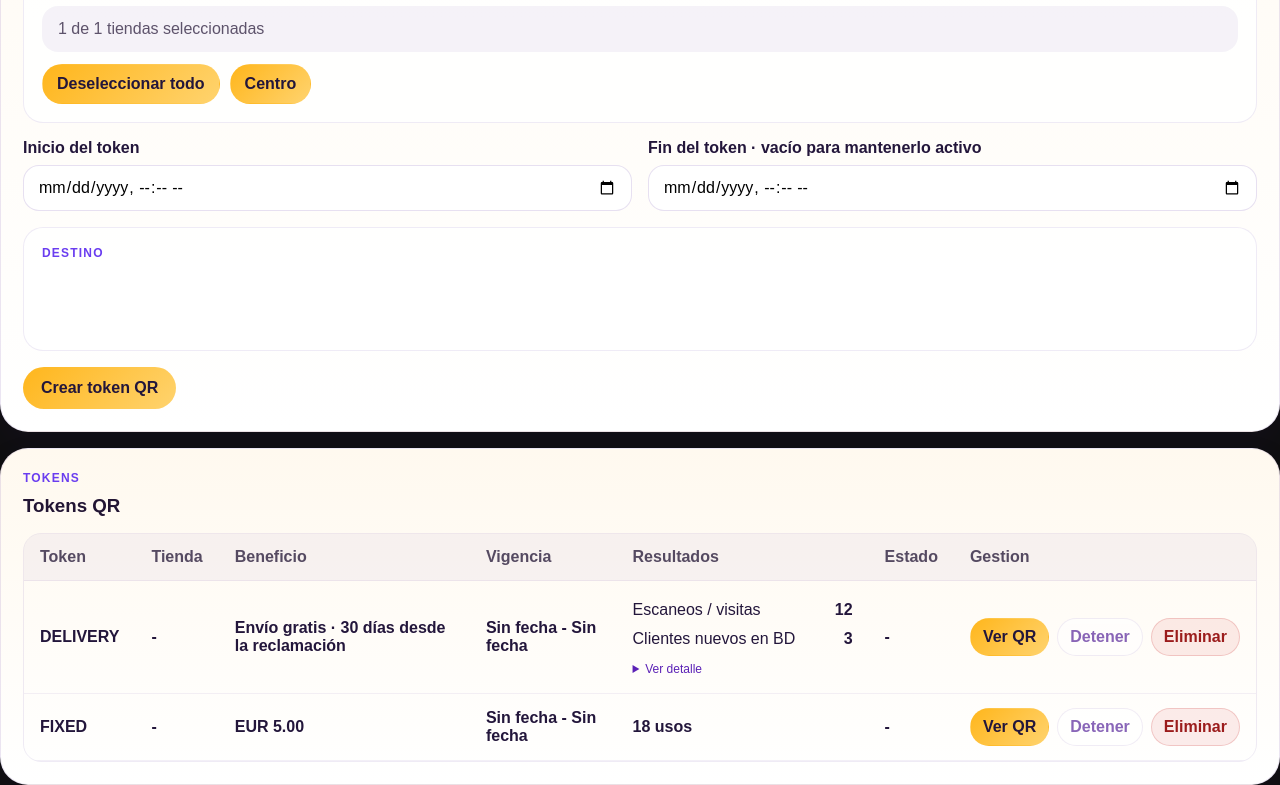
Scenario: QR results distinguish visits, new customer records, existing customers and SMS
The image size is (1280, 785).
(page scrolled)
Expected: the text "12" is shown, [835,598,853,621]
Expected: the text "Clientes nuevos en BD" is shown, [633,627,795,650]
Click the heading "Ver detalle".
click(674, 669)  # box [645,662,702,676]
(page scrolled)
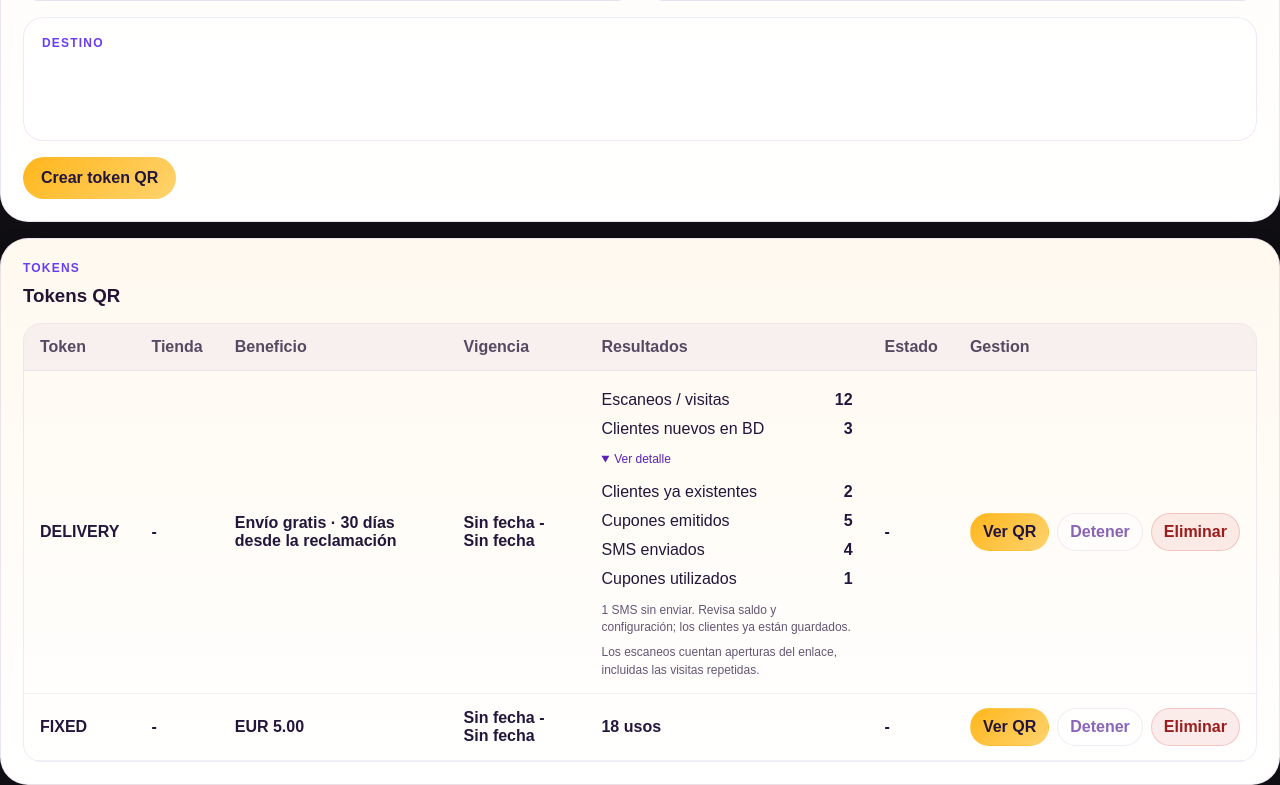
Expected: the text "18 usos" is shown, [586,694,869,761]
Expected: the text "Clientes ya existentes" is shown, [602,480,757,503]
Expected: the text "los clientes ya están guardados" is shown, [602,602,851,634]
